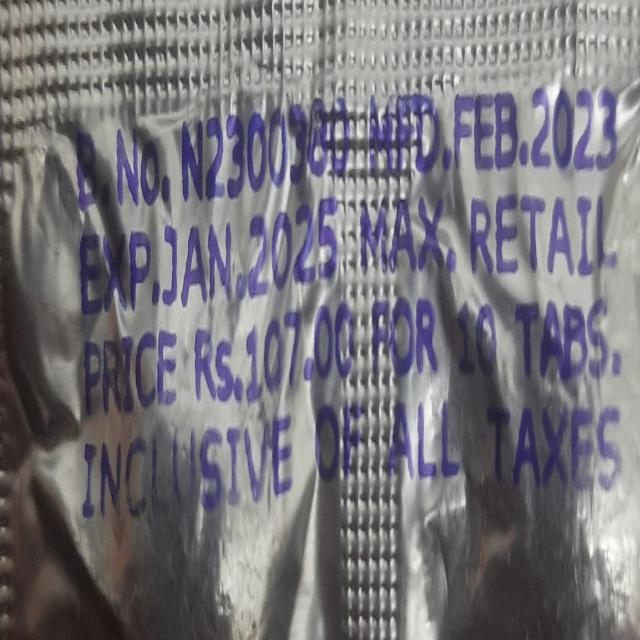sentence: (80, 382, 622, 522), (80, 184, 618, 316), (74, 85, 620, 213), (81, 294, 621, 415)
